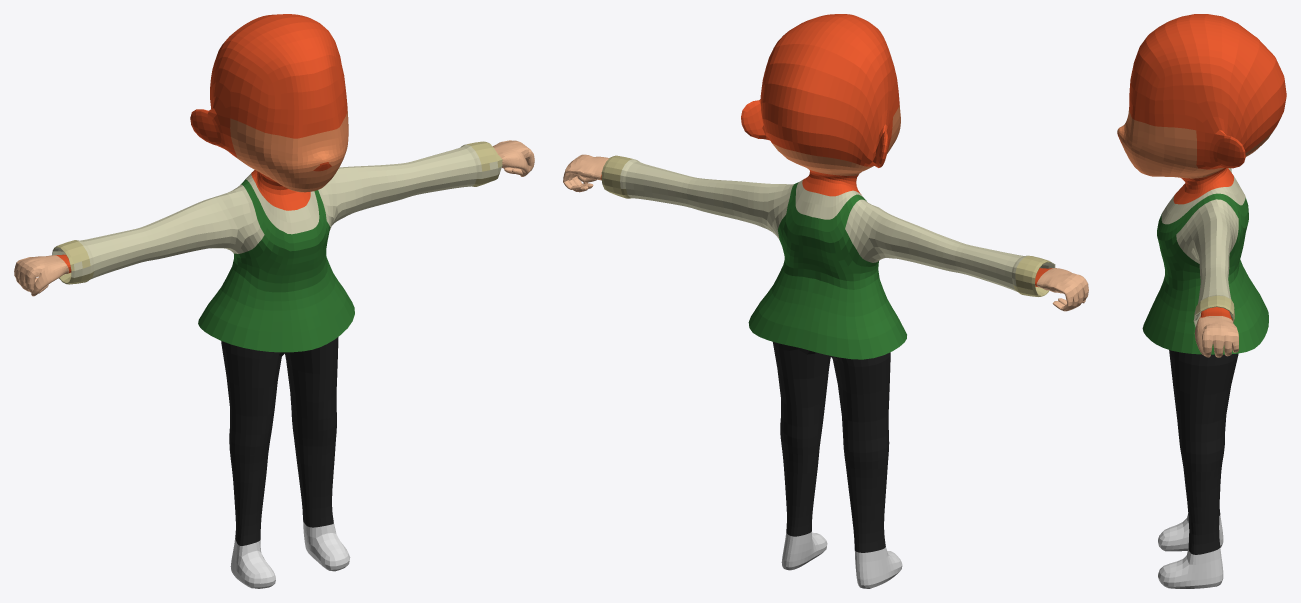
Rendered from fbx_screenshot_v2.fbx.
The picture shows the model from 3 angles, left to right: view 1: azimuth 30°, elevation 25°; view 2: azimuth 150°, elevation 25°; view 3: azimuth 270°, elevation 25°; orthographic projection.
Visible parts, largest first — view 1: polySurface1, polySurface2; view 2: polySurface1, polySurface2; view 3: polySurface1, polySurface2.
Part boxes in pixels (x1,y1,x2,y2): polySurface1: (14, 14, 534, 352); polySurface2: (221, 337, 350, 588); polySurface1: (563, 14, 1088, 359); polySurface2: (773, 342, 902, 588); polySurface1: (1117, 14, 1286, 357); polySurface2: (1158, 350, 1238, 588).
Size of the model in its own units: 143 by 146 by 41.23.
